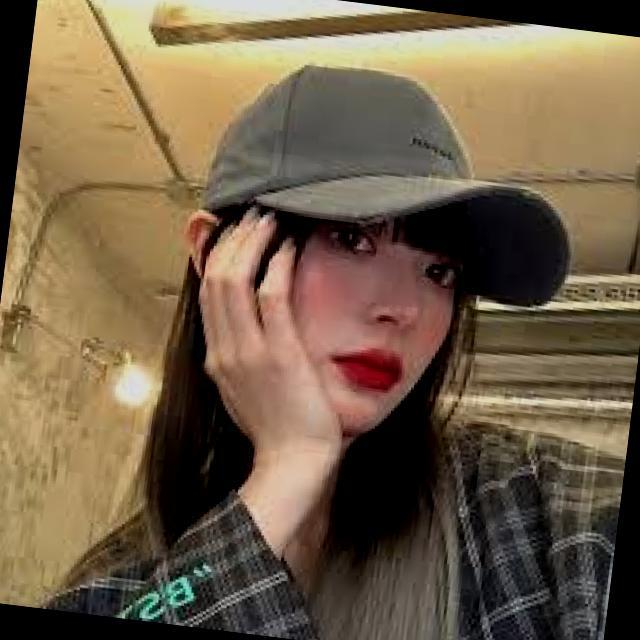cap: (170, 25, 630, 345)
